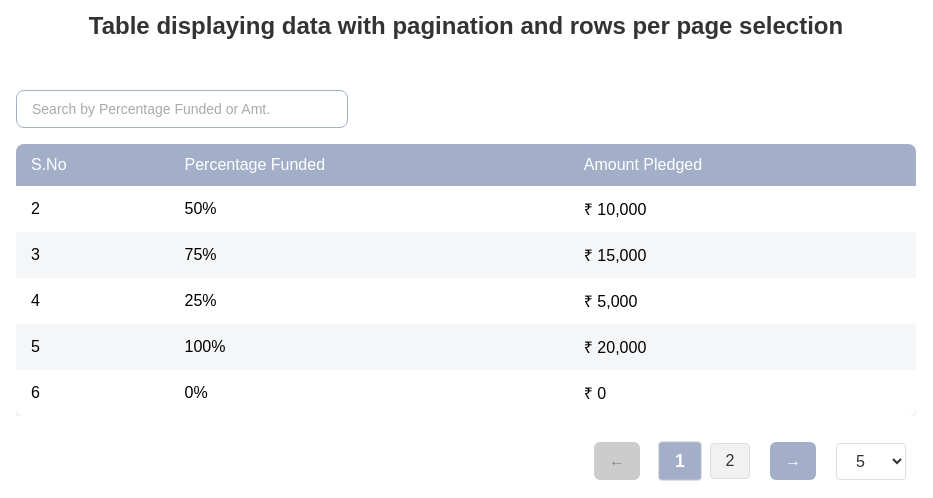
TableContainer › items per page change works
Select "1" in the dropdown at (871, 461), box [836, 442, 906, 480]
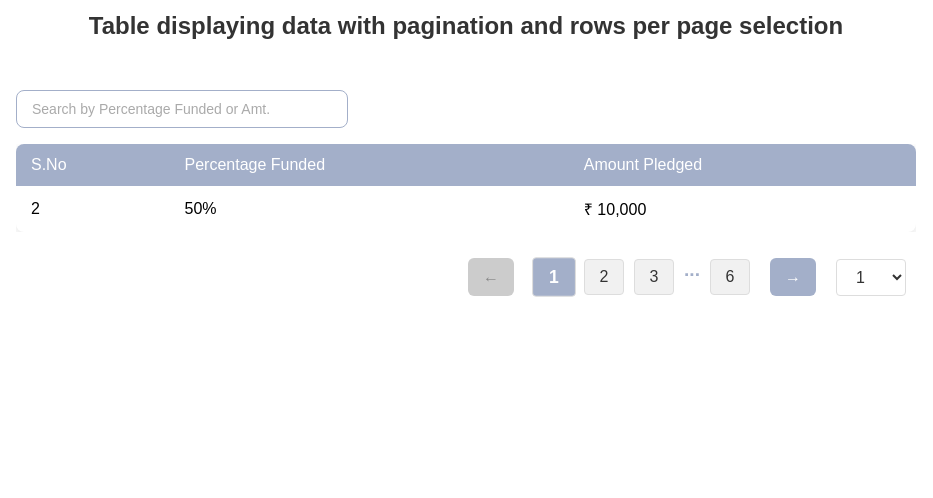
Check: the text "50%" is shown, box [170, 186, 569, 232]
Check: the text "75%" is gone
